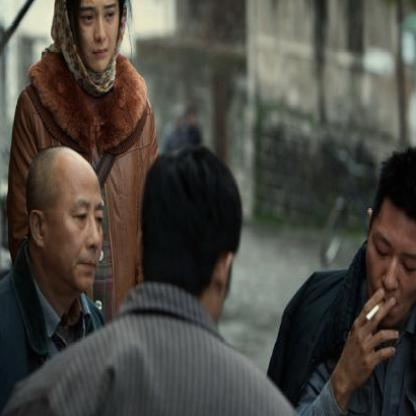cigarette: (365, 300, 385, 324)
person: (87, 147, 281, 415), (282, 147, 415, 415), (0, 146, 118, 388), (21, 0, 156, 174)
